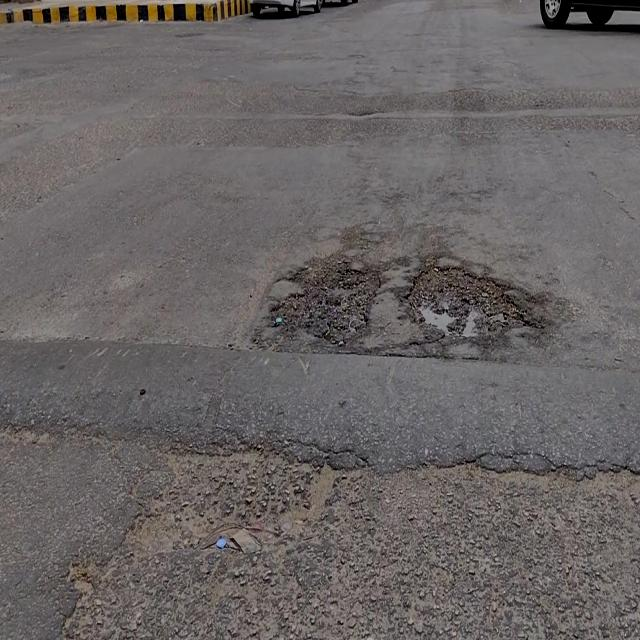Potholes: (405, 265, 532, 343), (271, 254, 377, 343)
